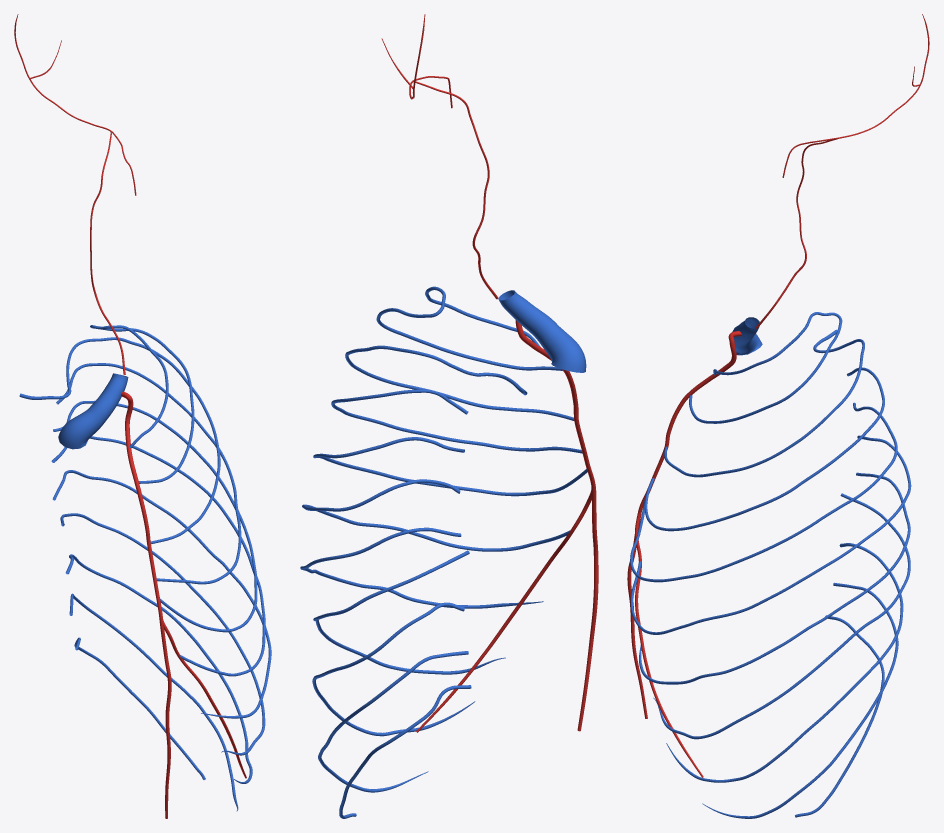
File: circulatorio-left-brachiocephalic-vein.glb
3 renders of one model, left to right at view 1: azimuth 30°, elevation 25°; view 2: azimuth 150°, elevation 25°; view 3: azimuth 270°, elevation 25°, orthographic. The views are drawn at different scales.
Visible parts, largest first — view 1: Left superior intercostal vein, Left brachiocephalic vein, Internal thoracic veins.l, Superior epigastric veins.l, Musculophrenic veins.l, Vertebral vein.l, Occipital vein.l; view 2: Left superior intercostal vein, Left brachiocephalic vein, Superior epigastric veins.l, Musculophrenic veins.l, Internal thoracic veins.l, Vertebral vein.l; view 3: Left superior intercostal vein, Internal thoracic veins.l, Musculophrenic veins.l, Left brachiocephalic vein, Superior epigastric veins.l, Vertebral vein.l.
Boxes of the visible parts, x1,y1,x2,y2 form: Left superior intercostal vein: (19,325,271,811); Left brachiocephalic vein: (58,373,128,449); Internal thoracic veins.l: (121,391,162,618); Superior epigastric veins.l: (159,619,171,818); Musculophrenic veins.l: (160,618,246,778); Vertebral vein.l: (90,131,125,374); Occipital vein.l: (14,14,136,195); Left superior intercostal vein: (300,286,587,818); Left brachiocephalic vein: (498,290,586,372); Superior epigastric veins.l: (577,487,598,731); Musculophrenic veins.l: (416,487,591,732); Internal thoracic veins.l: (515,320,595,487); Vertebral vein.l: (413,81,498,299); Left superior intercostal vein: (630,312,911,818); Internal thoracic veins.l: (638,331,741,512); Musculophrenic veins.l: (635,511,703,777); Left brachiocephalic vein: (732,317,762,355); Superior epigastric veins.l: (627,512,647,718); Vertebral vein.l: (755,139,837,328).
Bounding box in the file's own units: 0.1626 × 0.5734 × 0.2109.
